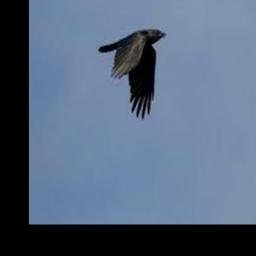Crow: (99, 29, 166, 120)
